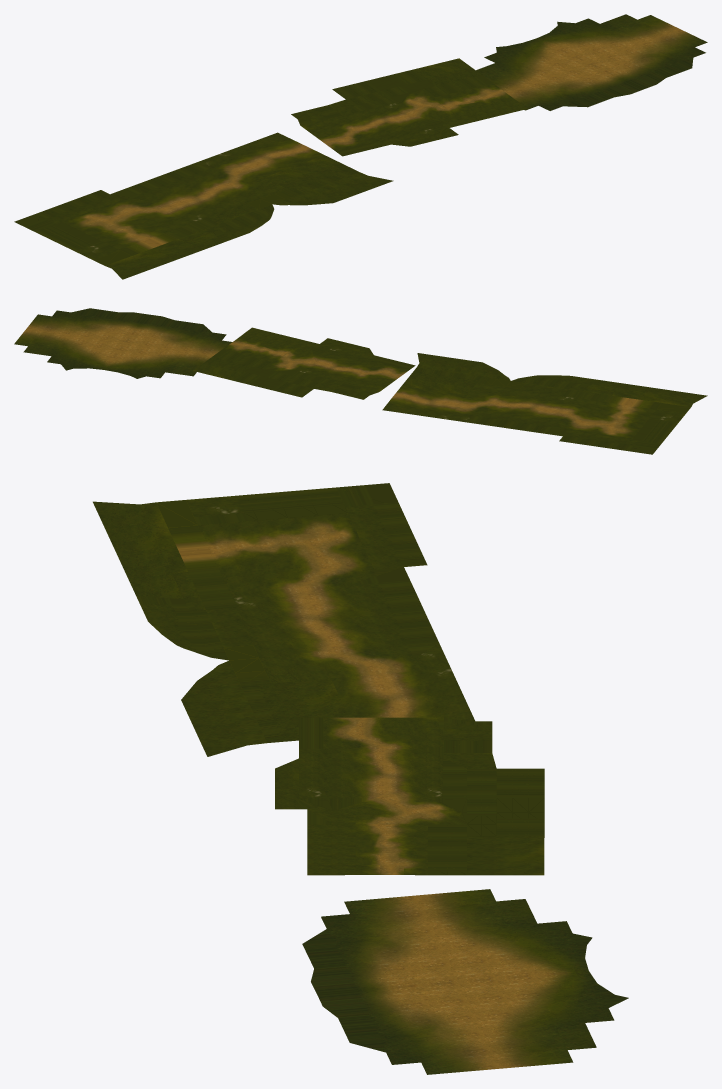
The model's file is lumina_dixing_zhanyi01.FBX.
3 renders of one model, top to bottom at view 1: azimuth 30°, elevation 25°; view 2: azimuth 150°, elevation 25°; view 3: azimuth 270°, elevation 25°, orthographic. The views are drawn at different scales.
Parts seen in each view (by area): view 1: lumina_dixing_zhanyi01:polymsh, lumina_dixing_zhanyi01:polymsh1, lumina_dixing_zhanyi01:polymsh_detached; view 2: lumina_dixing_zhanyi01:polymsh, lumina_dixing_zhanyi01:polymsh1, lumina_dixing_zhanyi01:polymsh_detached; view 3: lumina_dixing_zhanyi01:polymsh, lumina_dixing_zhanyi01:polymsh1, lumina_dixing_zhanyi01:polymsh_detached.
Boxes of the visible parts, bbox=[...] form: lumina_dixing_zhanyi01:polymsh: bbox=[14, 132, 393, 279]; lumina_dixing_zhanyi01:polymsh1: bbox=[476, 14, 707, 110]; lumina_dixing_zhanyi01:polymsh_detached: bbox=[291, 58, 527, 156]; lumina_dixing_zhanyi01:polymsh: bbox=[382, 353, 707, 454]; lumina_dixing_zhanyi01:polymsh1: bbox=[14, 308, 232, 378]; lumina_dixing_zhanyi01:polymsh_detached: bbox=[193, 327, 415, 399]; lumina_dixing_zhanyi01:polymsh: bbox=[93, 483, 474, 756]; lumina_dixing_zhanyi01:polymsh1: bbox=[302, 889, 628, 1074]; lumina_dixing_zhanyi01:polymsh_detached: bbox=[275, 717, 544, 875].
Bounding box in the file's own units: 126 × 1.97 × 48.37.
